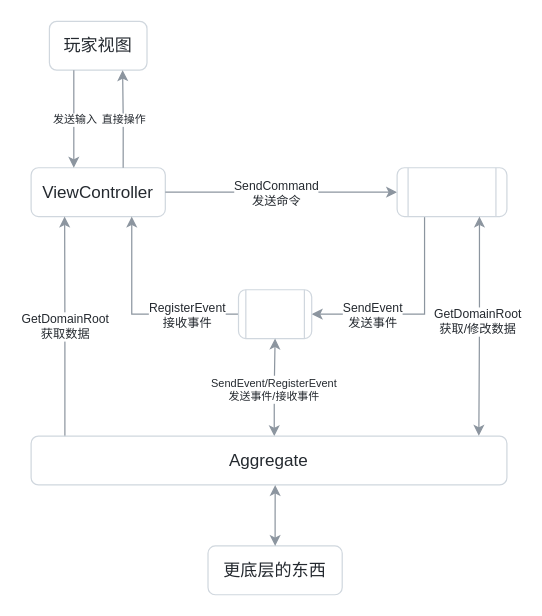
The diagram is 542 pixels wide and 616 high, and some of its shapes have lost their labels. Each missing label, with the centre of its shape:
Command: the point at 451,192
Event: the point at 274,314
